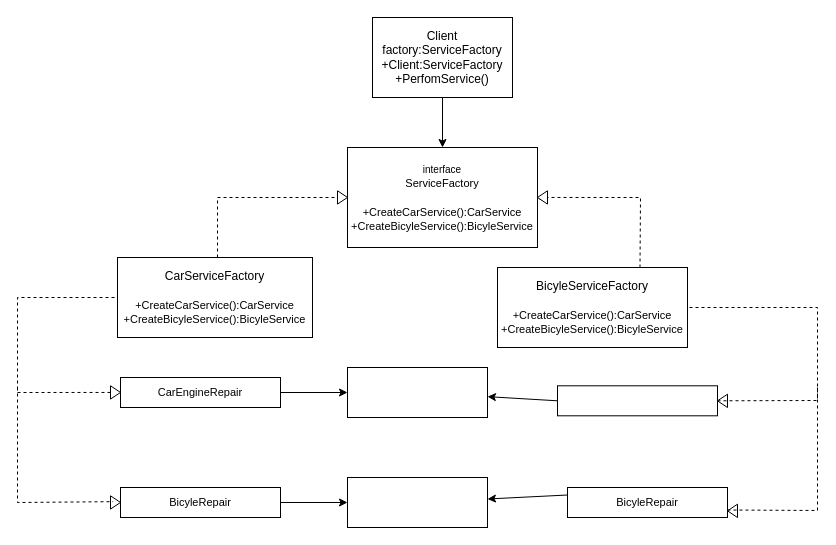
Some shapes in this 836 by 545 pixel diagram are drawn without their labels. Each missing label, with the centre of its shape:
CarOilRepair: (x=637, y=400)
interface BicyleService +performService():void: (x=417, y=502)
interface CarService +performService():void: (x=417, y=392)
